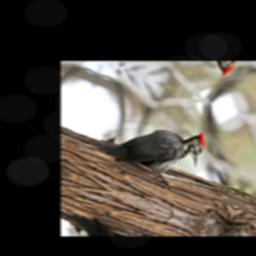Woodpecker: (86, 95, 209, 196)
